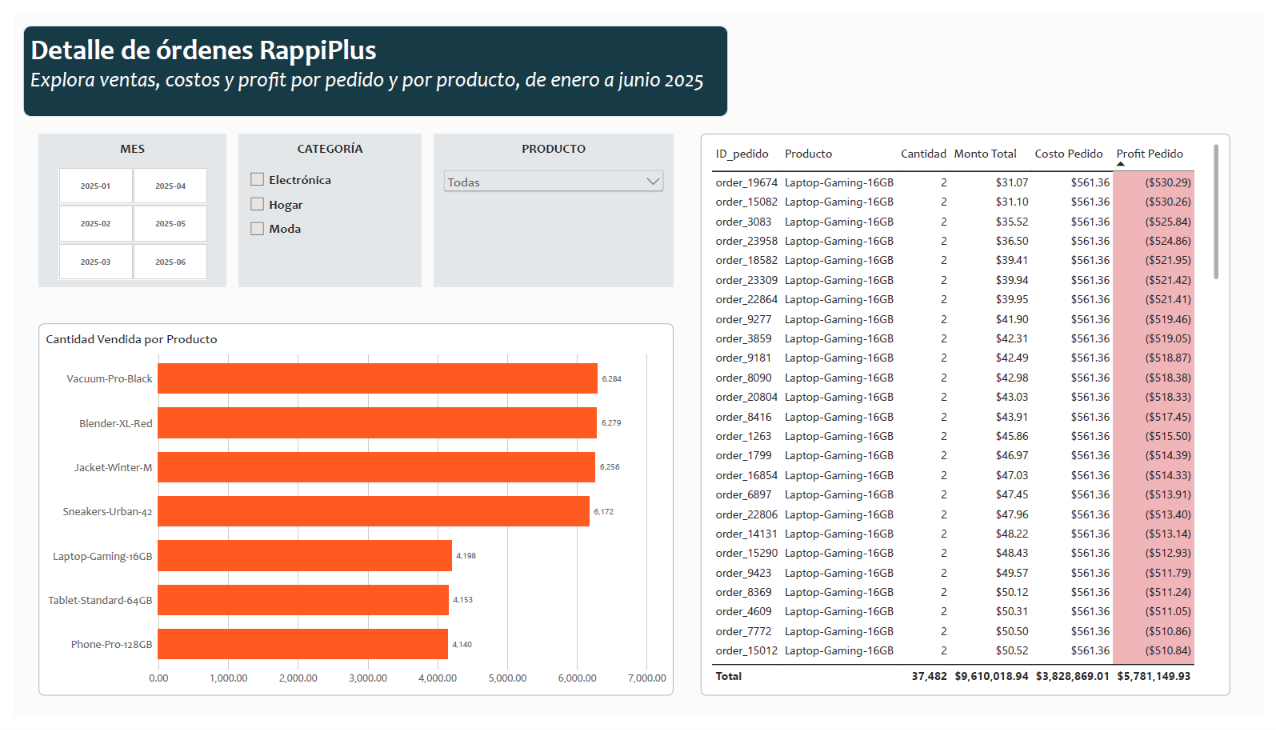

The dashboard page shown, as its layout file describes it:
{"tool":"powerbi","page":{"name":"Detalle de Órdenes","canvas":[1920,1080],"ordinal":1},"visuals":[{"type":"tableEx","fields":{"Values":["orders_clean.id_pedido","orders_clean.nombre_producto","Sum(orders_clean.cantidad)","Sum(orders_clean.monto_total)","Sum(orders_clean.costo_pedido)","Sum(orders_clean.profit_pedido)"]},"box":[1056,184,814,864],"z":0},{"type":"textbox","box":[14,18,1084,140],"z":1},{"type":"slicer","title":"MES","fields":{"Values":["dim_fecha.Año-Mes"]},"box":[38,184,288,236],"z":2},{"type":"slicer","title":"CATEGORÍA","fields":{"Values":["orders_clean.categoria_producto"]},"box":[346,184,280,236],"z":3},{"type":"slicer","title":"PRODUCTO","fields":{"Values":["orders_clean.nombre_producto"]},"box":[646,184,368,236],"z":4},{"type":"clusteredBarChart","title":"Cantidad Vendida por Producto","fields":{"Category":["orders_clean.nombre_producto"],"Y":["Sum(orders_clean.cantidad)"]},"box":[38,476,976,572],"z":5}]}

Visuals, with their boxes in screenshot pixels (x1, y1, x2, y2), scaled from the page's 1920x1080 canvas onto the 1276x730 screenshot:
tableEx - orders_clean.id_pedido x orders_clean.nombre_producto: select_region(702, 124, 1243, 708)
textbox: select_region(9, 12, 730, 107)
"MES" slicer: select_region(25, 124, 217, 284)
"CATEGORÍA" slicer: select_region(230, 124, 416, 284)
"PRODUCTO" slicer: select_region(429, 124, 674, 284)
"Cantidad Vendida por Producto" clusteredBarChart: select_region(25, 322, 674, 708)
